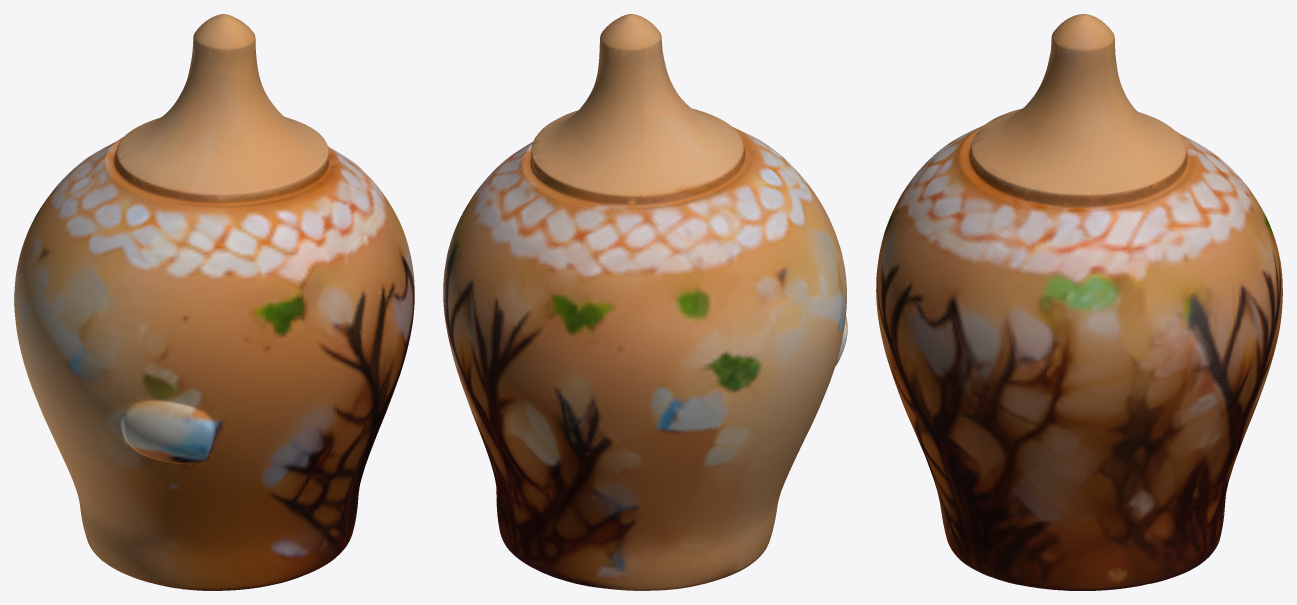
Rendered from jarra_sabana2.glb.
The picture shows the model from 3 angles, left to right: view 1: azimuth 30°, elevation 25°; view 2: azimuth 150°, elevation 25°; view 3: azimuth 270°, elevation 25°; orthographic projection.
Visible parts, largest first — view 1: material.001; view 2: material.001; view 3: material.001.
Part boxes in pixels (x1,y1,x2,y2): material.001: (14,14,414,590); material.001: (443,14,847,590); material.001: (876,14,1282,590).
Bounding box in the file's own units: 0.1999 × 0.2853 × 0.1988.
Materials: 1 (1 with a texture image).
